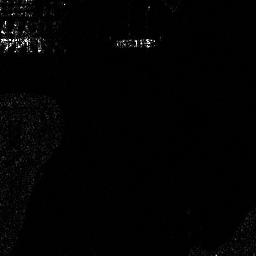ship: (114, 38, 162, 47)
